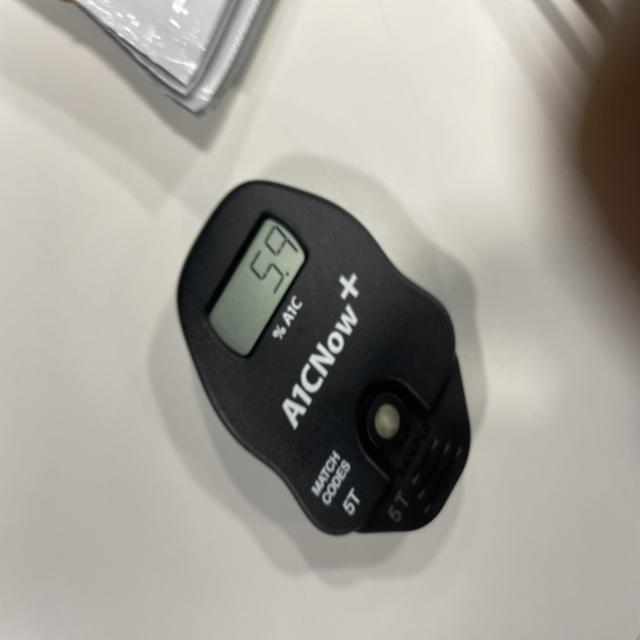hba1c: (175, 181, 474, 540)
